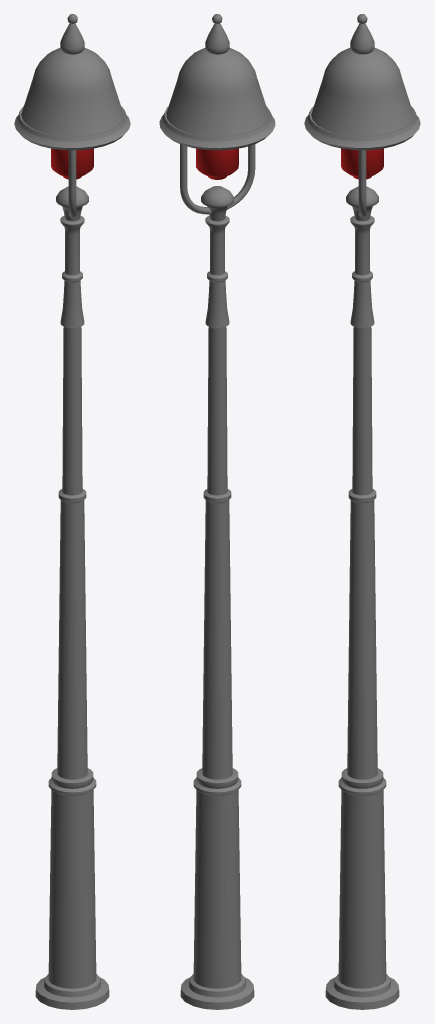
File: SM_lamp_street_b_02.fbx
3 views of the same model, side by side, from view 1: azimuth 90°, elevation 25°; view 2: azimuth 210°, elevation 25°; view 3: azimuth 270°, elevation 25° (orthographic).
Visible parts, largest first — view 1: Line022; view 2: Line022; view 3: Line022.
Part boxes in pixels (<box>): Line022: <box>14,14,130,1009</box>; Line022: <box>159,14,275,1009</box>; Line022: <box>304,14,420,1009</box>.
Size of the model in its own units: 23.57 by 220 by 23.75.
